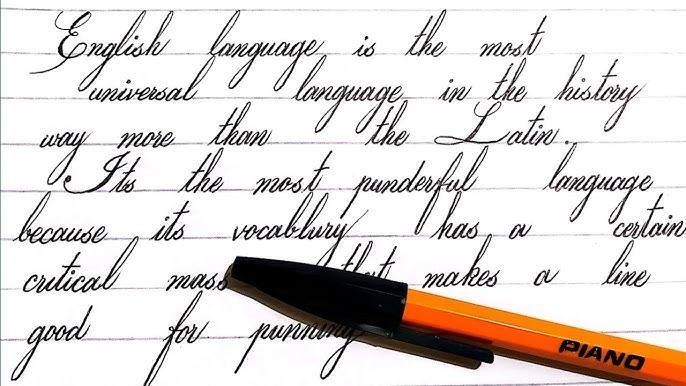text: (62, 141, 656, 237), (10, 190, 686, 269), (38, 99, 571, 187), (85, 52, 650, 135), (28, 7, 550, 92), (21, 232, 656, 296), (8, 289, 362, 385), (557, 336, 646, 373)
